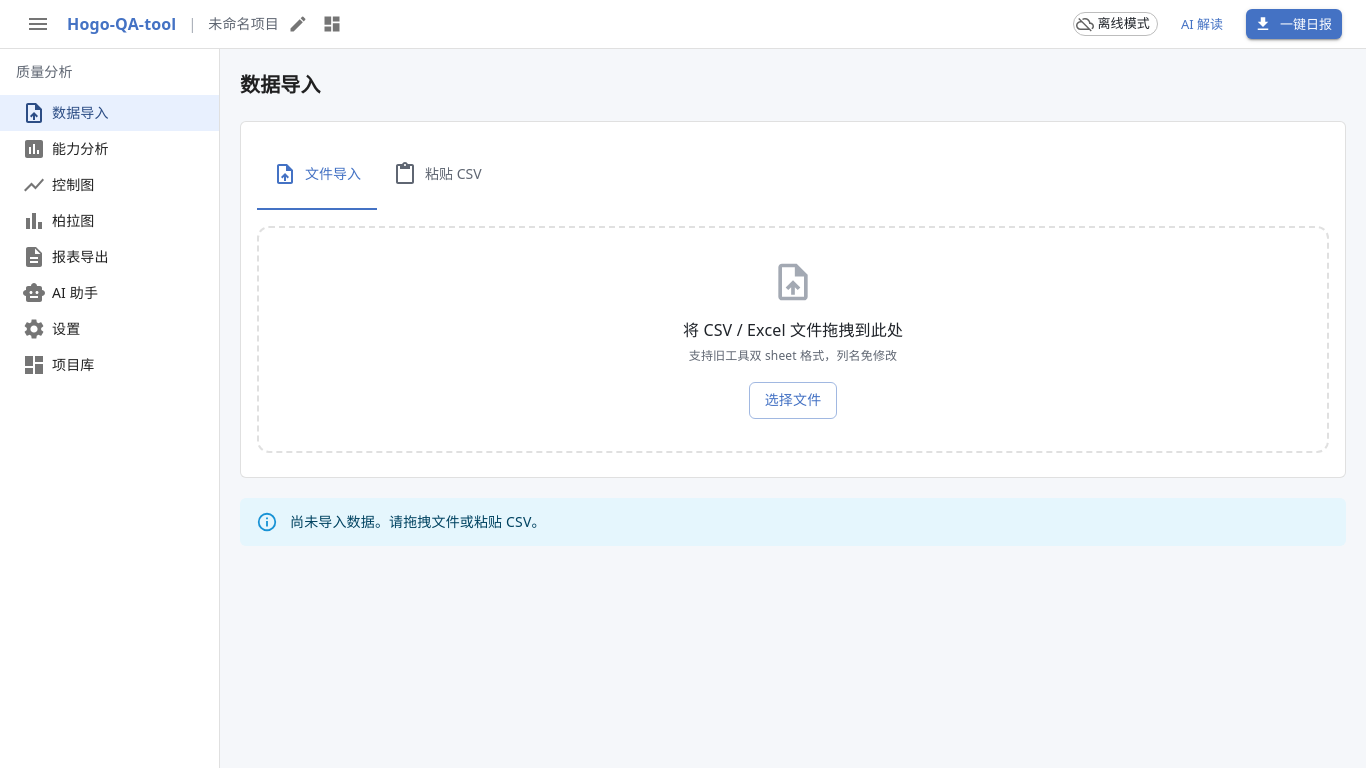
Test case: AppShell —— 布局与导航 › 点击「控制图」挂载真实控制图页（不再是占位页）
Click the link "控制图": (58, 185) x1=22 y1=173 x2=94 y2=197
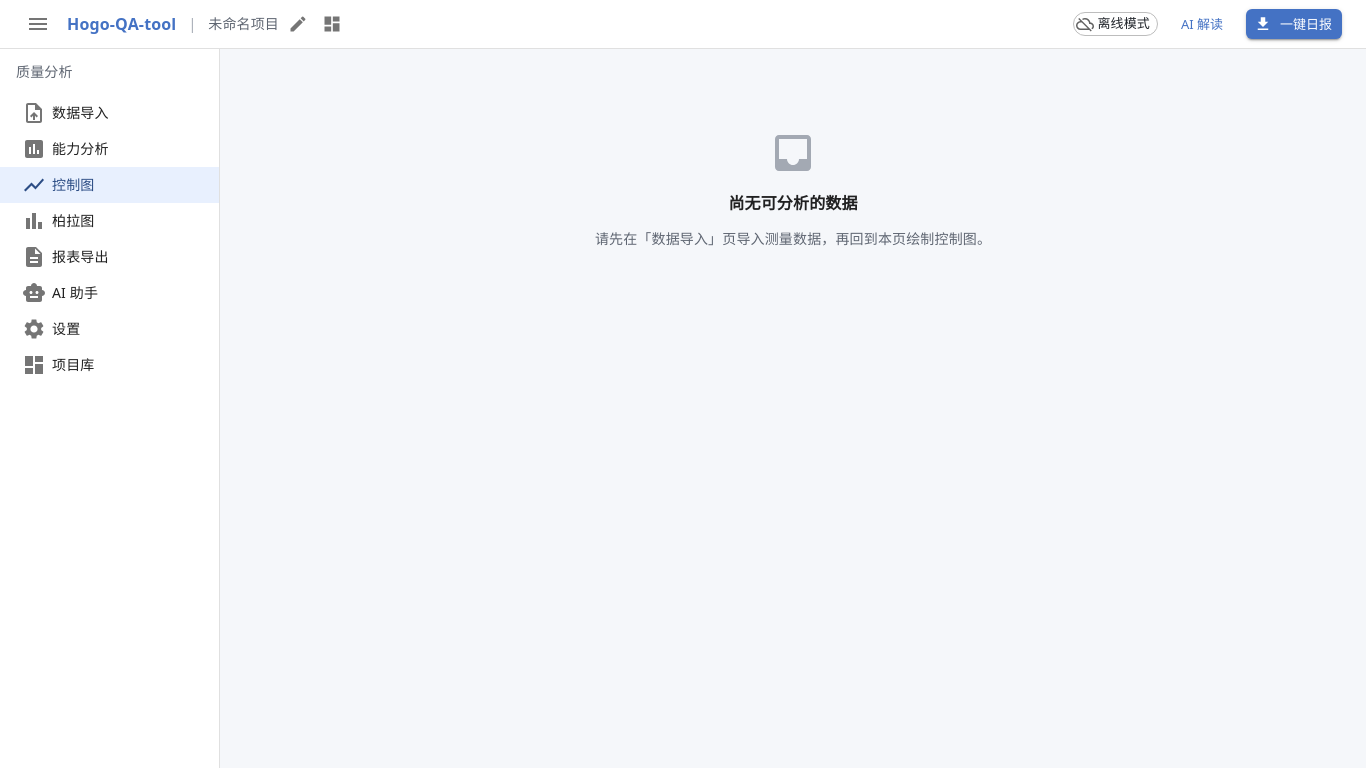
Result: the element with test id "control-chart-page" is shown at x1=595 y1=129 x2=991 y2=248
